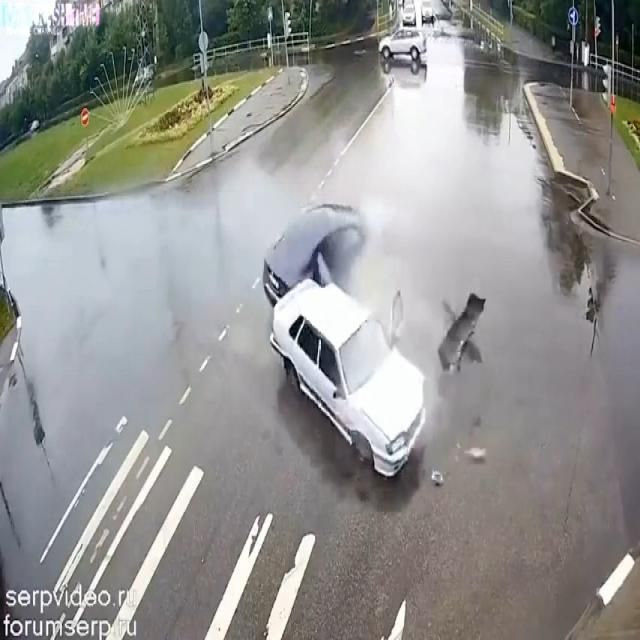Accident: (243, 162, 439, 500)
